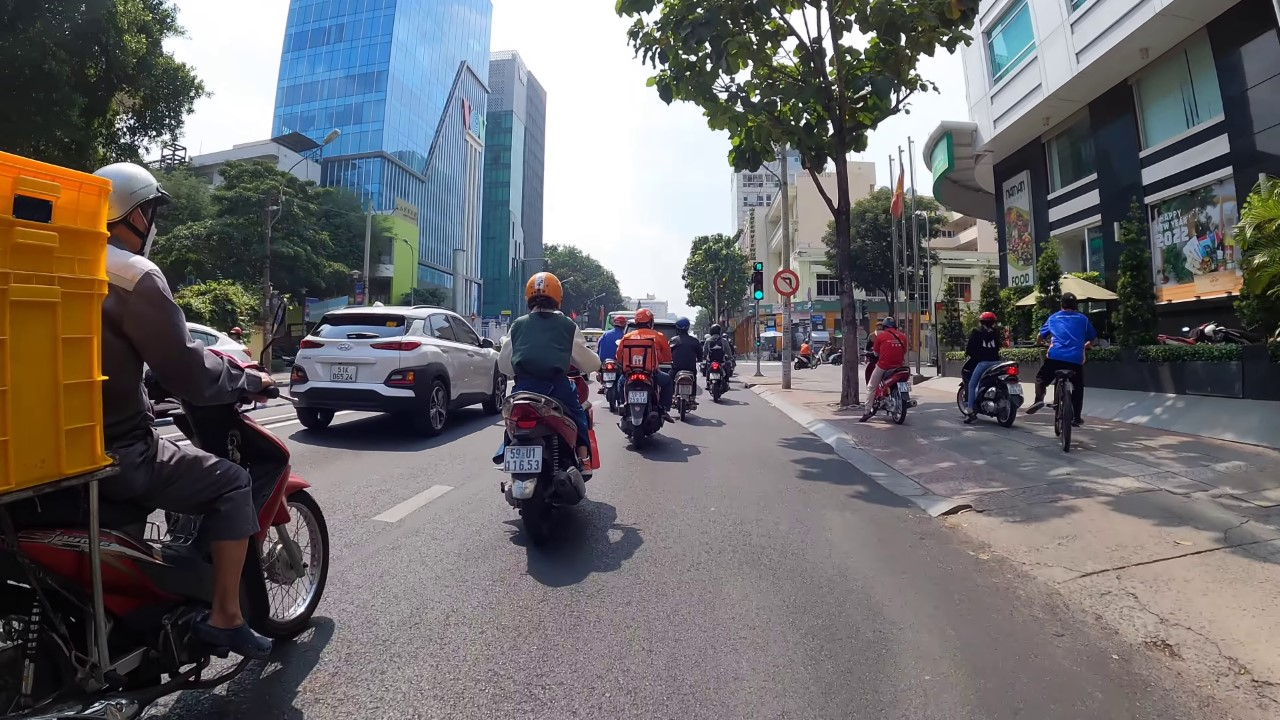cam_re_trai: (772, 267, 800, 297)
